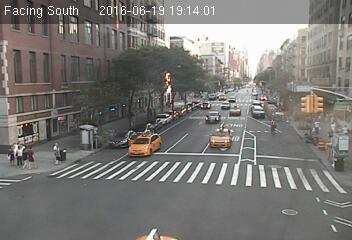neg: (121, 27, 142, 54), (202, 46, 221, 72), (329, 146, 348, 171), (24, 78, 42, 102), (284, 198, 302, 222), (167, 44, 185, 67), (170, 183, 187, 207), (327, 49, 344, 72), (274, 44, 291, 67), (101, 182, 118, 205), (89, 120, 106, 142), (105, 66, 122, 88), (216, 124, 232, 146), (52, 63, 68, 85), (42, 103, 58, 125), (292, 156, 308, 178), (131, 137, 146, 157), (241, 53, 256, 73), (304, 89, 318, 107), (154, 95, 166, 110)
pos: (50, 140, 66, 161), (14, 145, 28, 164), (25, 145, 38, 164), (267, 117, 280, 135), (310, 117, 322, 133)
